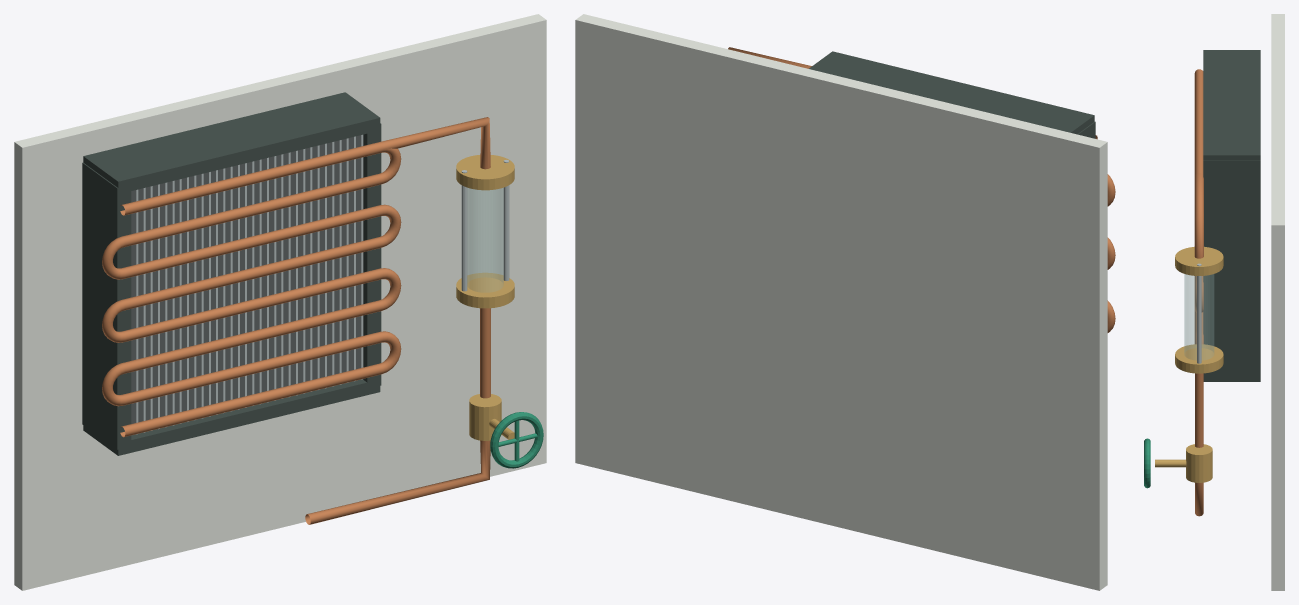
Rendered from tu100-component-pilot.glb.
3 views of the same model, side by side, from view 1: azimuth 30°, elevation 25°; view 2: azimuth 150°, elevation 25°; view 3: azimuth 270°, elevation 25° (orthographic). The views are drawn at different scales.
Visible parts, largest first — view 1: Mounting panel, coil_refrigerant_path, Coil frame rail.001, Coil frame side, Coil frame rail, observation_glass, Coil frame side.001, valve_outlet, Tube end flange, Tube end flange.001, coil_to_observation, pilot_valve_handwheel (+35 smaller); view 2: Mounting panel, Coil frame rail.001; view 3: Coil frame side.001, Mounting panel, Coil frame rail.001, observation_glass, coil_refrigerant_path, Tube end flange, Tube end flange.001, pilot_valve_body, coil_to_observation, observation_to_valve, Tube tie bolt.001, pilot_valve_handwheel (+3 smaller).
Part boxes in pixels (x1,y1,x2,y2): Mounting panel: (14,14,546,590); coil_refrigerant_path: (102,142,401,437); Coil frame rail.001: (83,92,380,194); Coil frame side: (82,162,131,449); Coil frame rail: (83,379,380,455); observation_glass: (467,188,503,292); Coil frame side.001: (363,123,381,385); valve_outlet: (305,440,490,524); Tube end flange: (456,272,514,308); Tube end flange.001: (456,155,514,190); coil_to_observation: (380,117,490,169); pilot_valve_handwheel: (490,412,543,468); Mounting panel: (575,14,1107,590); Coil frame rail.001: (809,51,1094,134); Coil frame side.001: (1203,160,1260,376); Mounting panel: (1271,14,1284,590); Coil frame rail.001: (1203,50,1260,160); observation_glass: (1184,274,1213,360); coil_refrigerant_path: (1194,69,1203,344); Tube end flange: (1175,344,1223,373); Tube end flange.001: (1175,246,1223,275); pilot_valve_body: (1186,444,1212,482); coil_to_observation: (1194,173,1203,258); observation_to_valve: (1195,373,1203,447); Tube tie bolt.001: (1197,263,1201,363); pilot_valve_handwheel: (1144,438,1150,488).
Size of the model in its own units: 1.3 by 1.05 by 0.3661.
